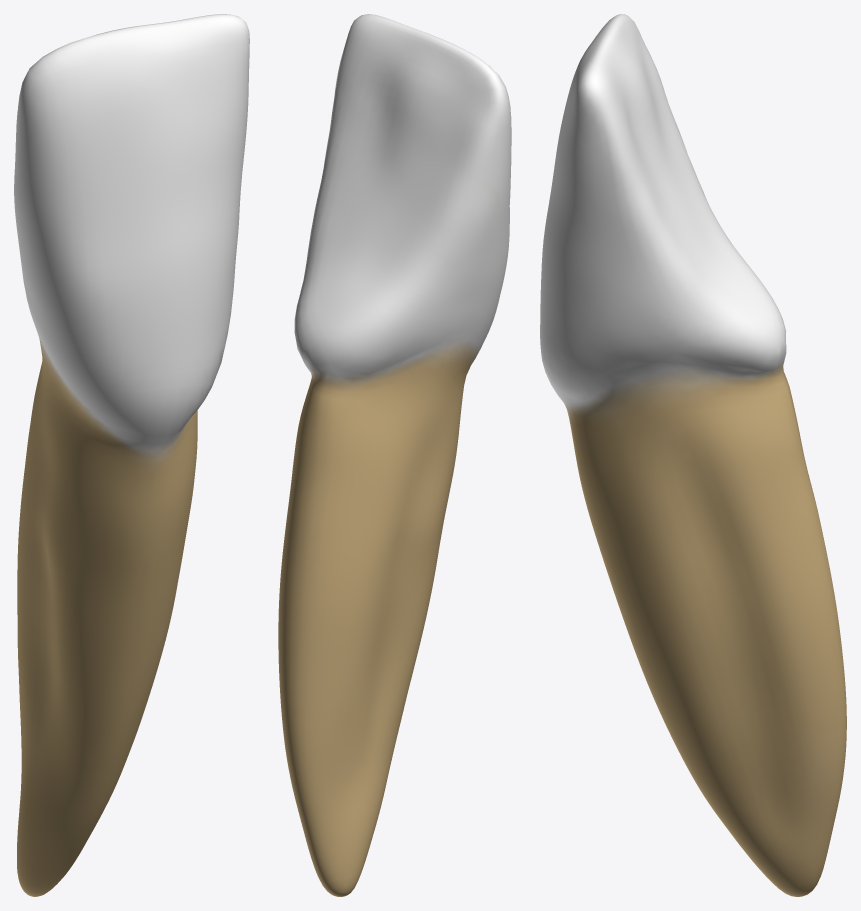
3 views of the same model, side by side, from view 1: azimuth 30°, elevation 25°; view 2: azimuth 150°, elevation 25°; view 3: azimuth 270°, elevation 25° (orthographic). The views are drawn at different scales.
Parts seen in each view (by area): view 1: outer; view 2: outer; view 3: outer.
Part boxes in pixels (x1,y1,x2,y2): outer: (14,14,249,896); outer: (278,14,511,896); outer: (540,14,846,896).
Bounding box in the file's own units: 2.04 × 8.79 × 2.84.
2 materials, 1 textured.
